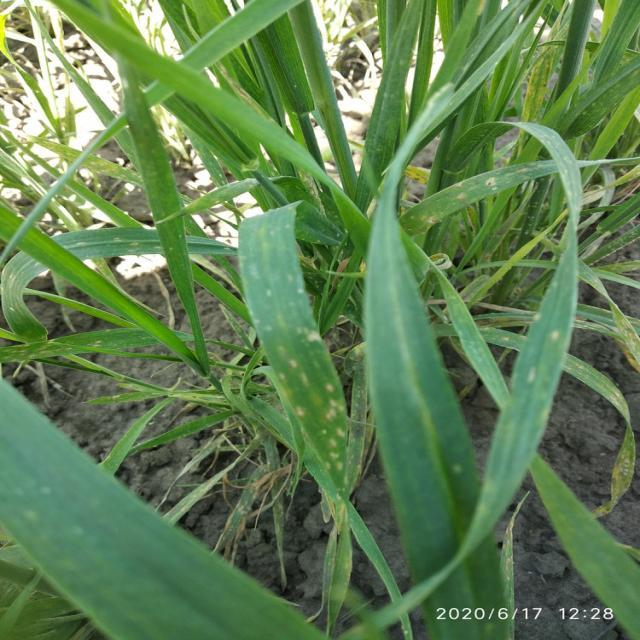wheat-powdery-mildew: (238, 202, 349, 491)
